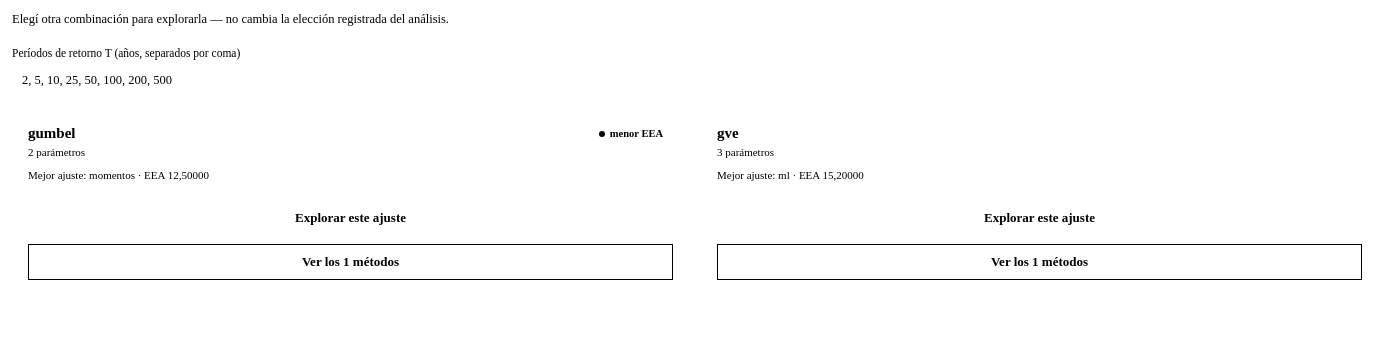
Test: Etapa2Explorador › si explorar falla con un error cualquiera (red caída, etc.), muestra el texto legible del catálogo
Click the button "Explorar este ajuste" below "momentos": (350, 218) [28,200,673,236]
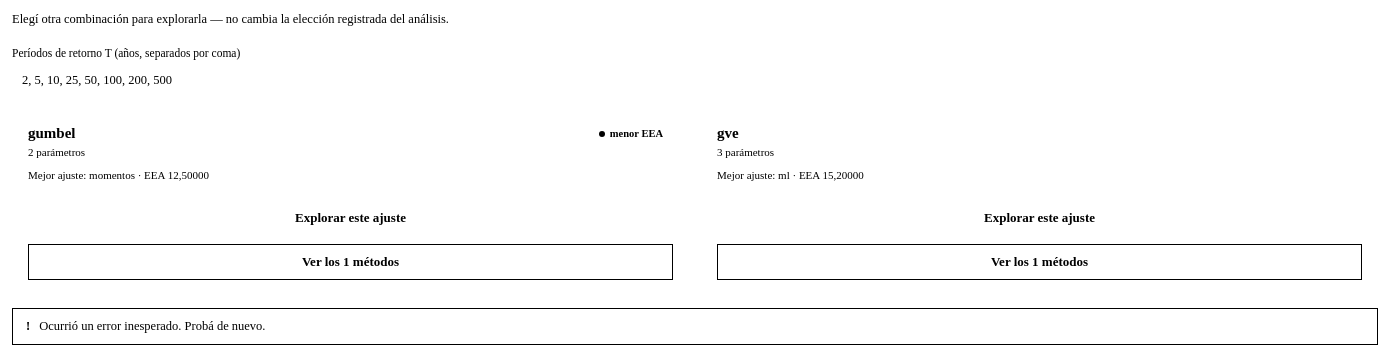
expect the message shows "Ocurrió un error inesperado. Probá de nuevo.": met, box [39,319,266,333]
